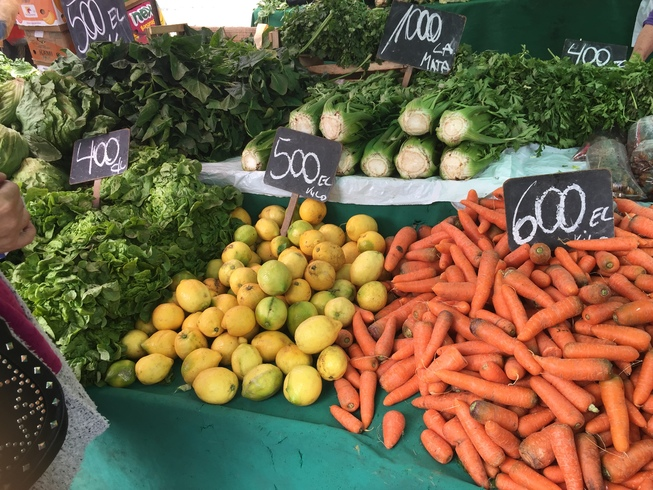precio: (501, 167, 621, 253), (260, 120, 344, 208), (383, 1, 472, 81), (53, 1, 141, 65), (61, 124, 136, 190), (556, 34, 633, 78)
